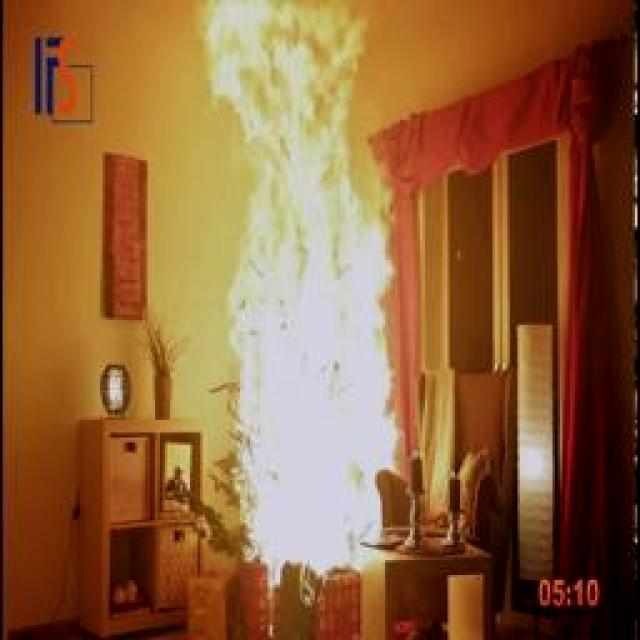fire: (174, 2, 424, 582)
